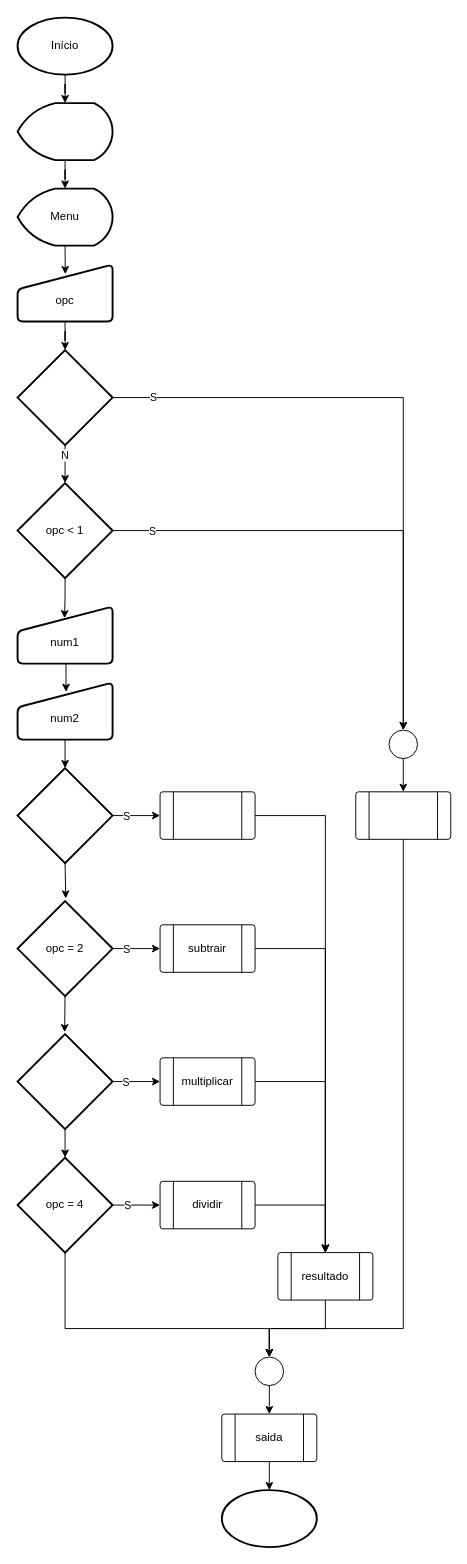
Some shapes in this 467 by 1564 pixel diagram are drawn without their labels. The box of each missing label's shape, as (x1, y1, x2, y2) in pixels:
adicionar: (159, 791, 255, 839)
Fim: (220, 1489, 317, 1548)
msterro: (355, 791, 451, 839)
opc = 1: (16, 767, 113, 864)
opc = 3: (16, 1033, 113, 1130)
opc > 4: (16, 349, 113, 446)
Título: (16, 102, 113, 161)
